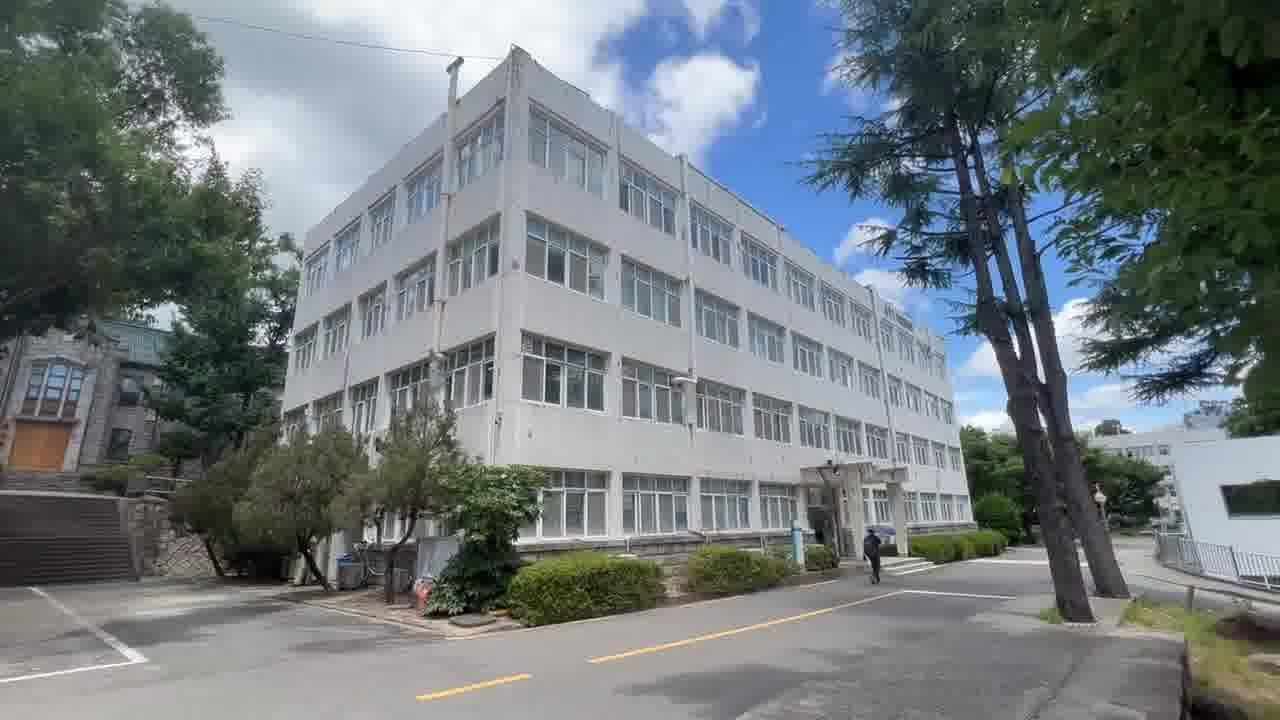building: (316, 77, 948, 513)
